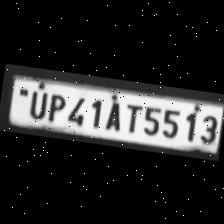1: (84, 94, 106, 129), (178, 108, 200, 142)
3: (196, 110, 220, 146)
4: (64, 90, 89, 126)
5: (158, 104, 183, 138), (138, 101, 162, 135)
A: (100, 95, 124, 131)
P: (44, 90, 68, 122)
T: (120, 99, 143, 133)
U: (24, 86, 49, 120)
